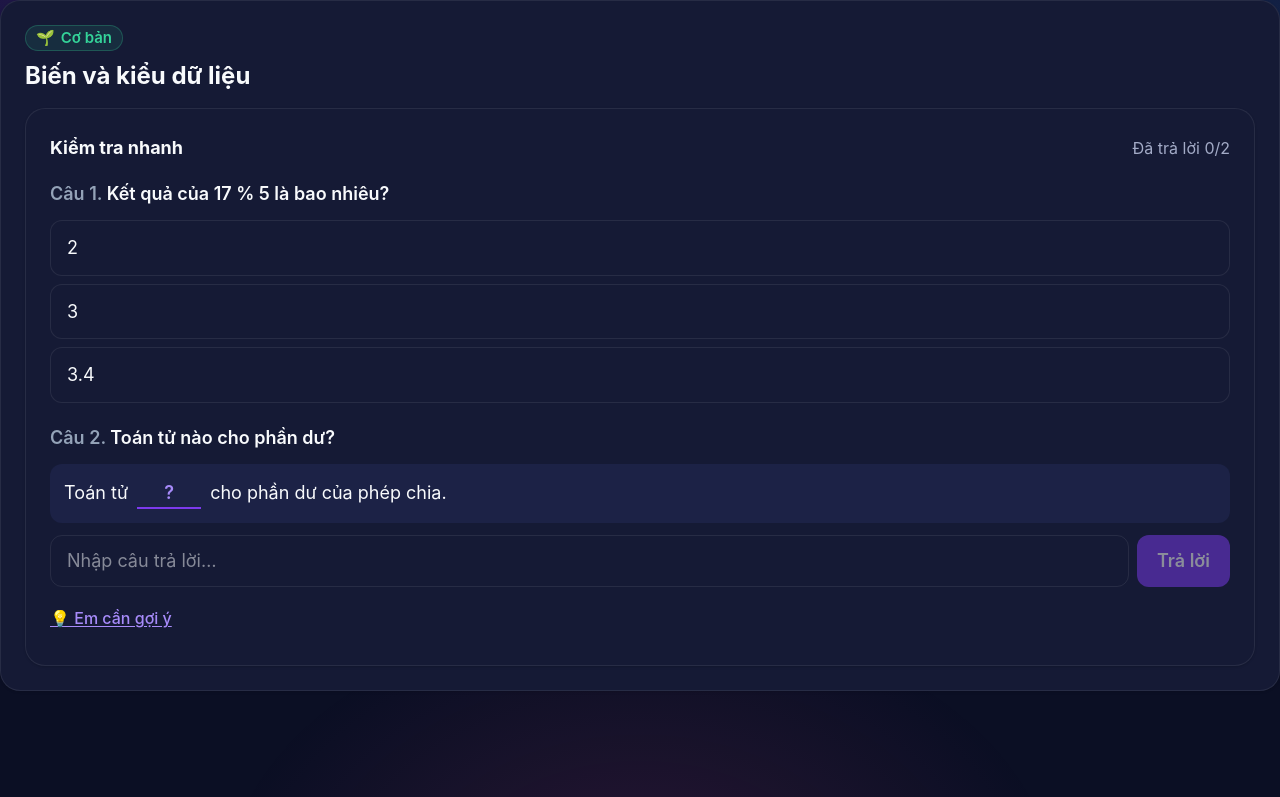
Scenario: Bài trắc nghiệm › trả lời HẾT các câu — kể cả sai — là khối được ghi nhận hoàn thành, đúng một lần
The image size is (1280, 797).
Click the button "3": coordinates (73, 311) [50, 284, 1230, 339]
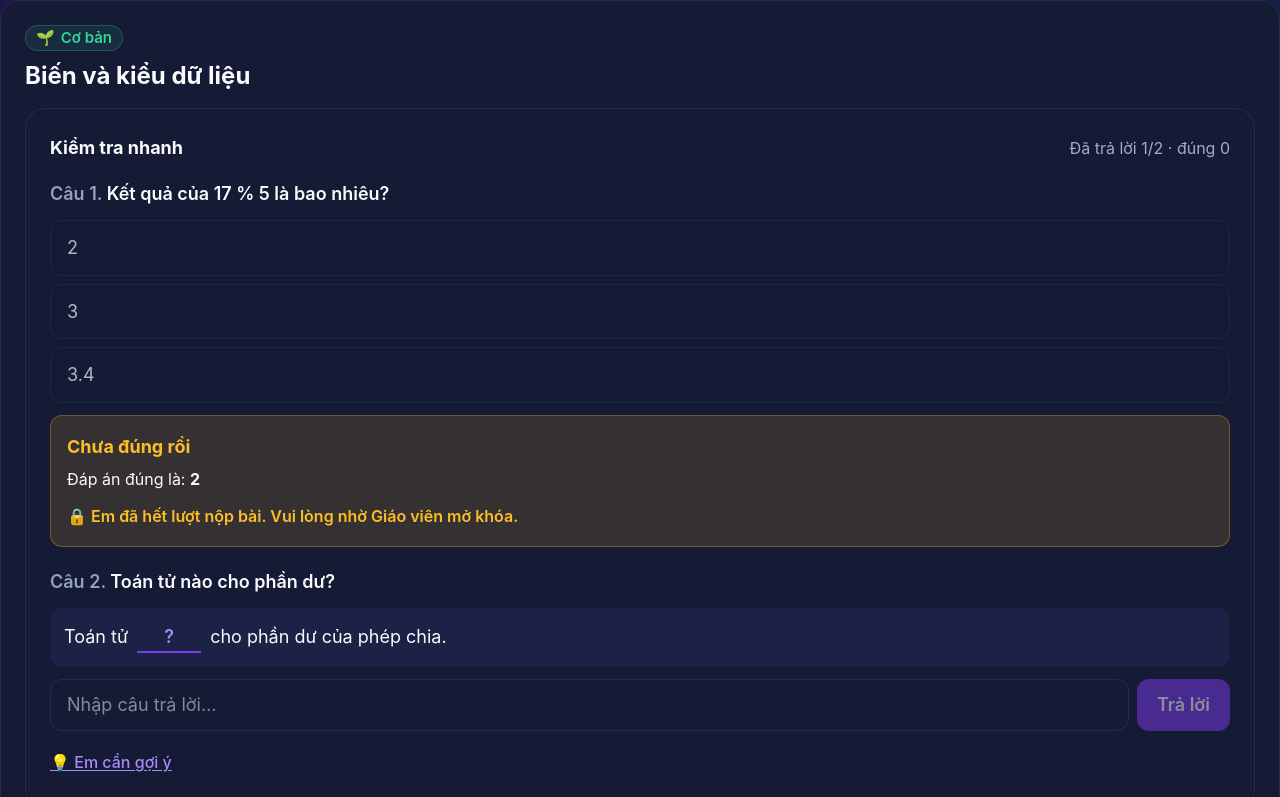
In the field: coordinates (589, 705) [50, 679, 1129, 731], type "chia"
Then press Enter
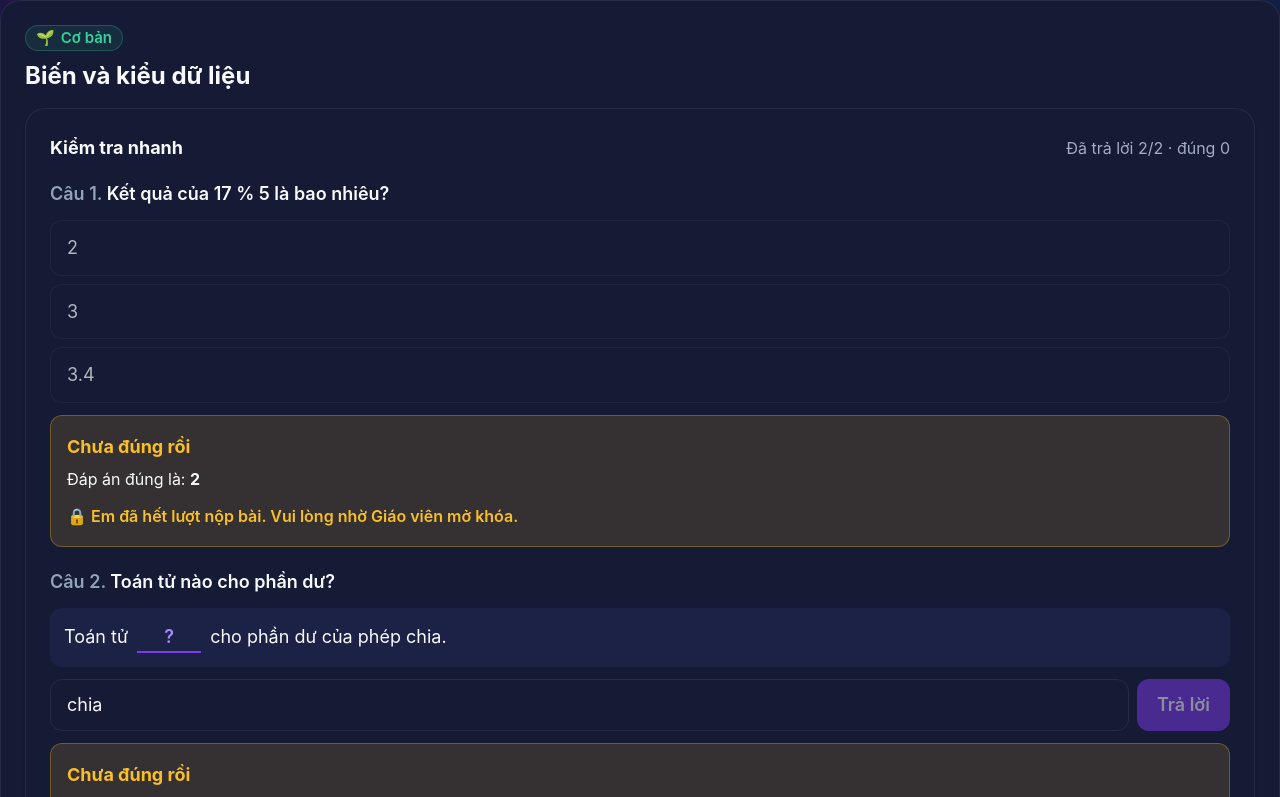
Expected: the text "Đã trả lời 2/2 · đúng 0" is shown, [1066, 136, 1230, 162]
